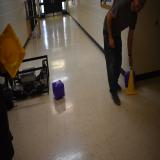cone: (0, 23, 26, 79), (126, 70, 138, 96)
cube: (52, 79, 65, 100), (125, 71, 136, 87)
